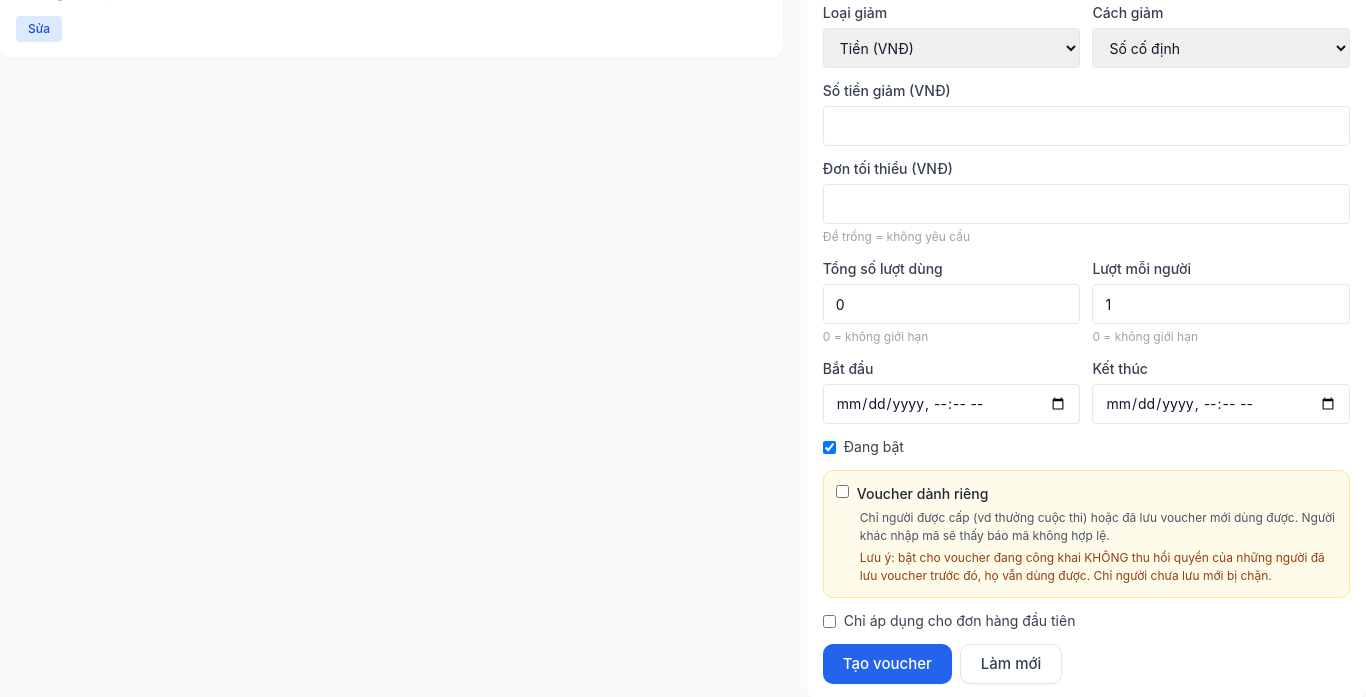
Test: /admin/vouchers — voucher dành riêng (holders_only) › form sai thì báo lỗi tại form và KHÔNG gọi API
This screenshot has width=1366, height=697.
(page scrolled)
Click the button "Tạo voucher": (887, 664) [823,644,952,684]
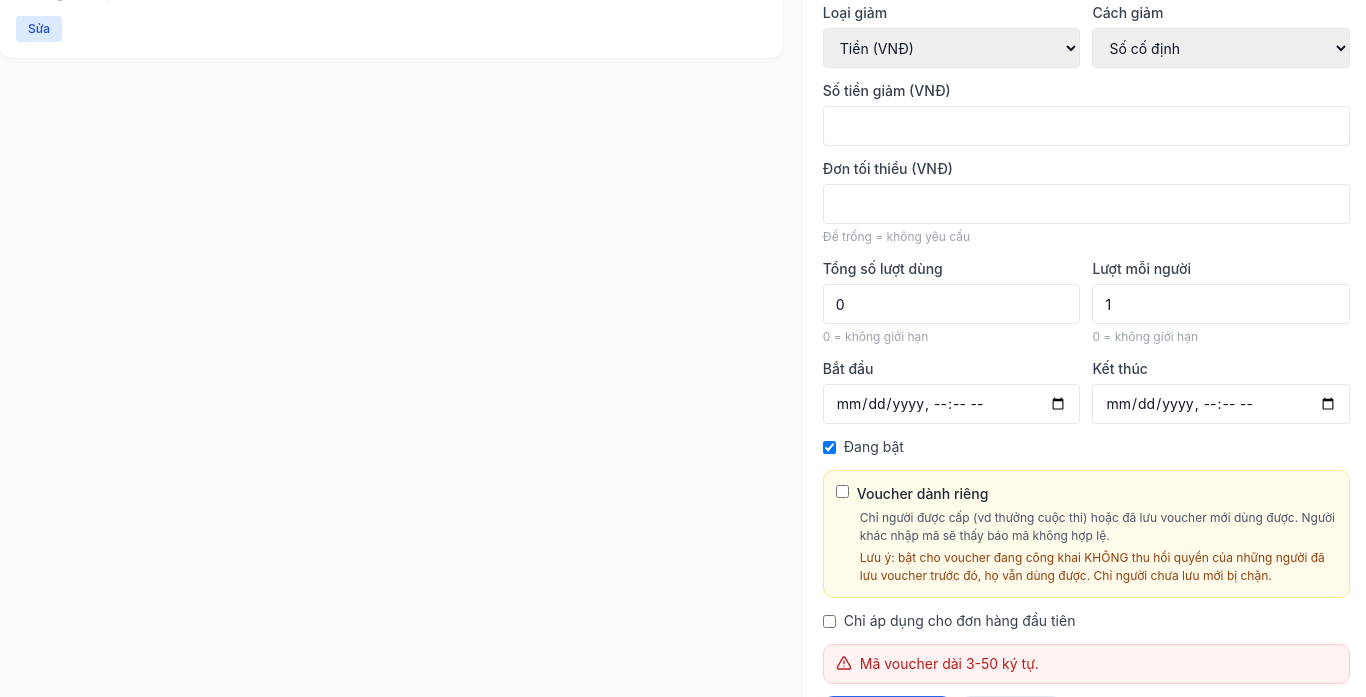
Expected: the message "Mã voucher dài 3-50 ký tự." is shown, [823,644,1350,684]
